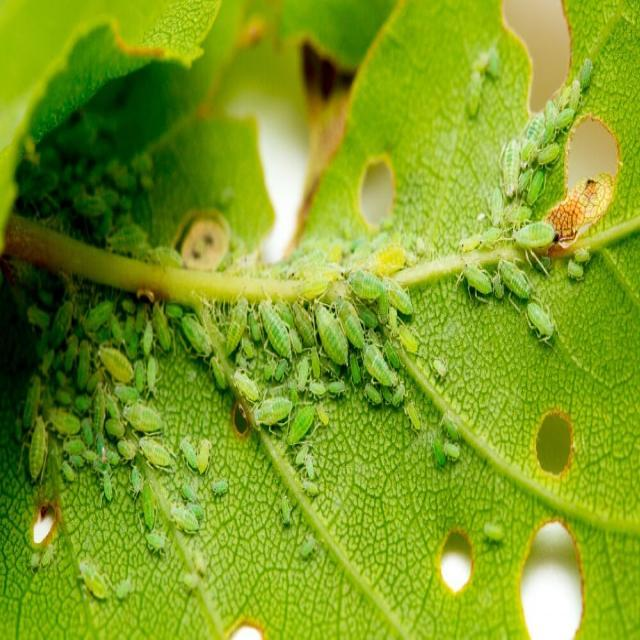Aphids: (15, 264, 621, 617), (450, 24, 635, 303), (72, 146, 182, 264)
